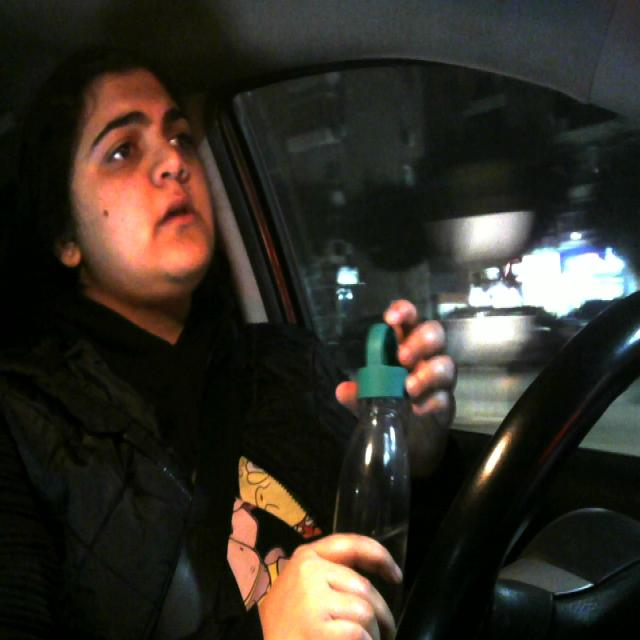drinking: (335, 316, 421, 640)
